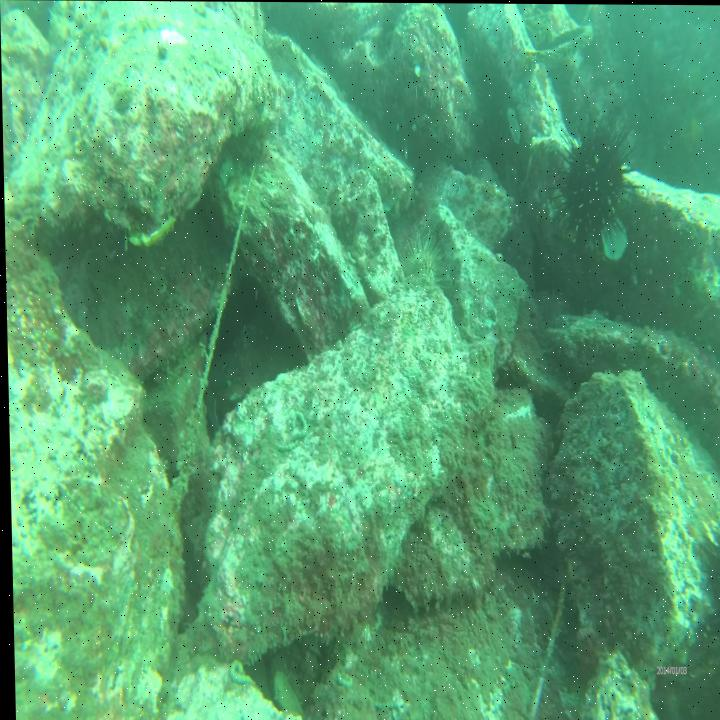echinus: (556, 113, 628, 243), (400, 231, 441, 287)
